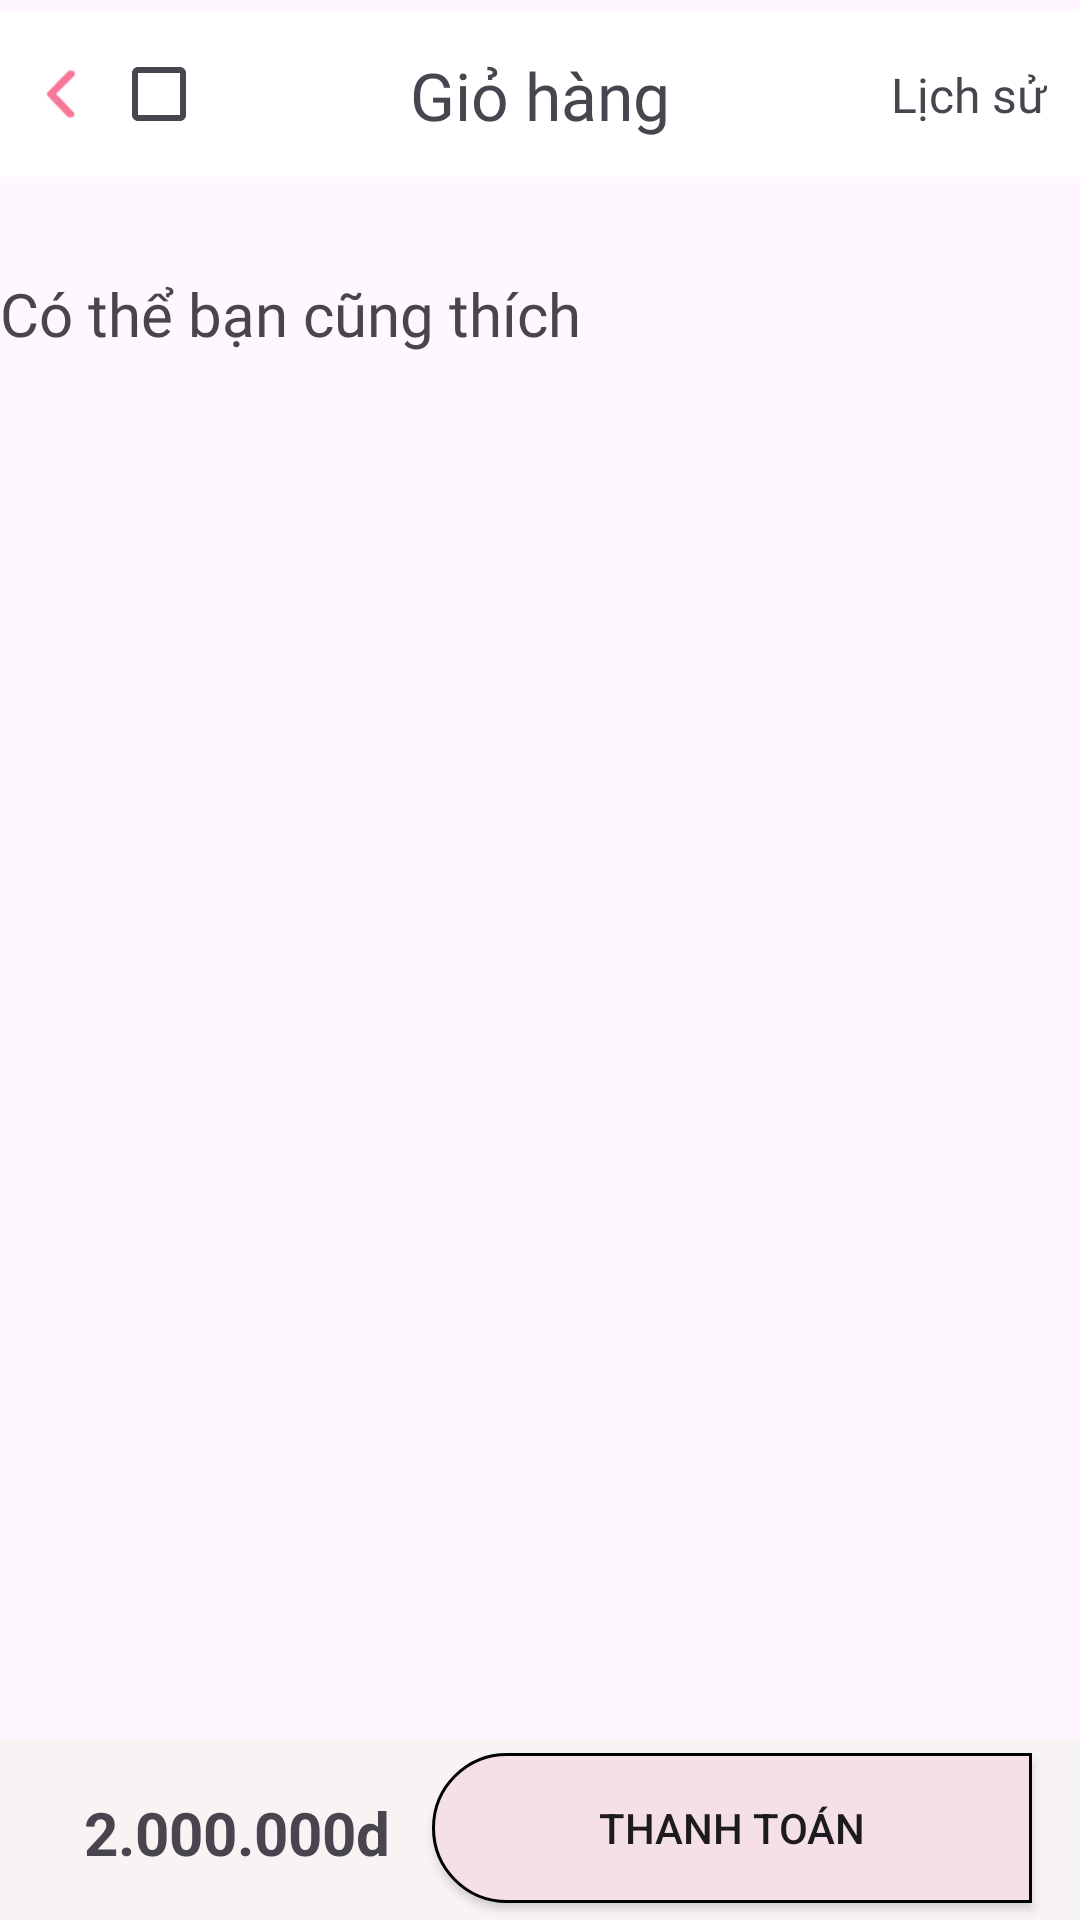

Screen size 1080px x 1920px. Icon name, then its center in pixels as (x=x, y=y):
iconback: (x=61, y=94)
